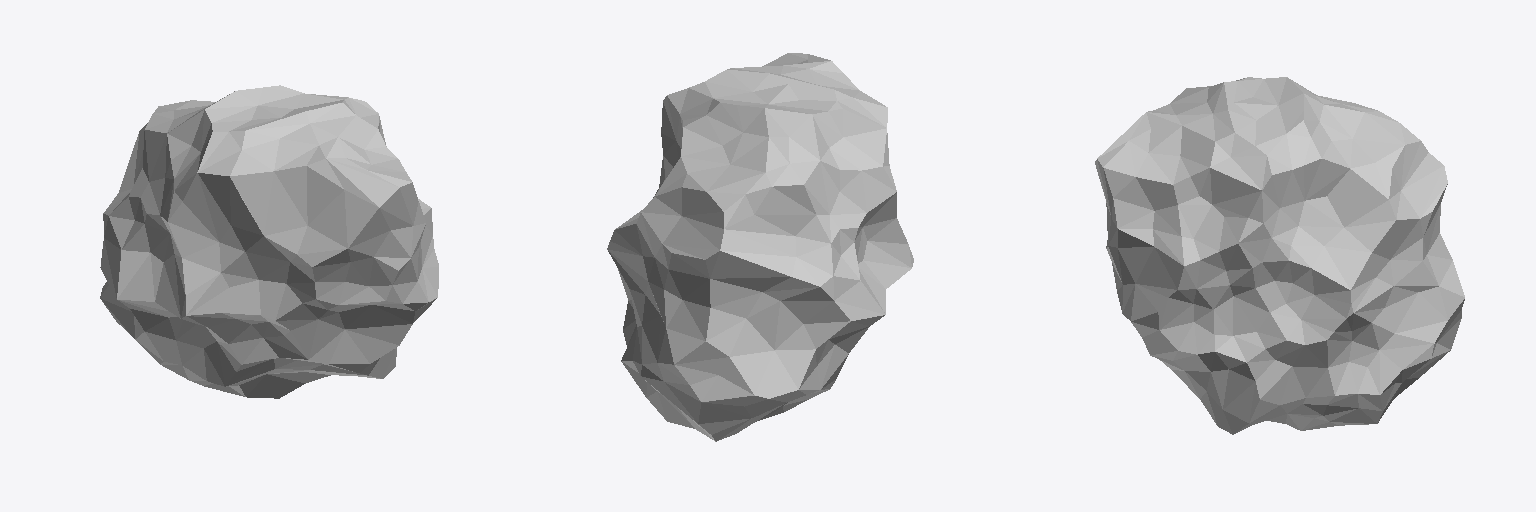
Rendered from rock.obj.
The picture shows the model from 3 angles: view 1: azimuth 30°, elevation 25°; view 2: azimuth 150°, elevation 25°; view 3: azimuth 270°, elevation 25°; orthographic projection.
Visible parts, largest first — view 1: rock.008; view 2: rock.008; view 3: rock.008.
Boxes of the visible parts, <box> form: rock.008: <box>100,85,438,398</box>; rock.008: <box>607,53,913,441</box>; rock.008: <box>1095,77,1464,434</box>.
Size of the model in its own units: 1.13 by 1.33 by 1.41.